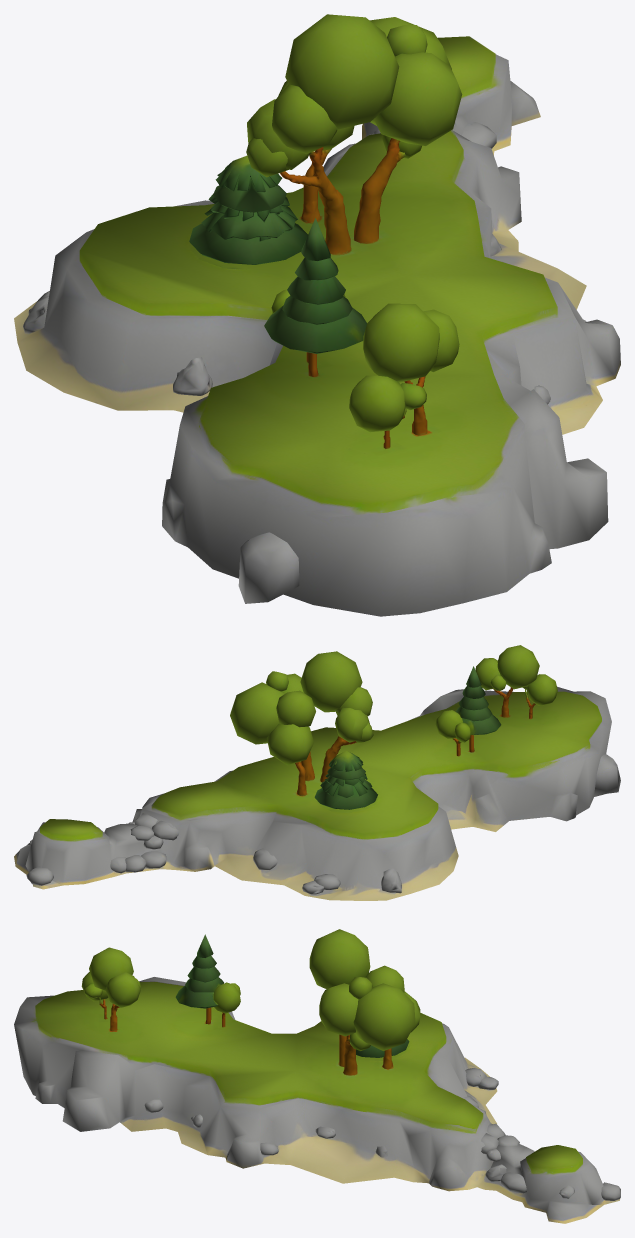
File: isle_14_p1.glb
3 renders of one model, top to bottom at view 1: azimuth 30°, elevation 25°; view 2: azimuth 150°, elevation 25°; view 3: azimuth 270°, elevation 25°, orthographic. The views are drawn at different scales.
Parts seen in each view (by area): view 1: tripo_node_332f7d4a-f276-4788-9e9a-ab2009891d3e; view 2: tripo_node_332f7d4a-f276-4788-9e9a-ab2009891d3e; view 3: tripo_node_332f7d4a-f276-4788-9e9a-ab2009891d3e.
Part boxes in pixels (x1,y1,x2,y2): tripo_node_332f7d4a-f276-4788-9e9a-ab2009891d3e: [14, 14, 620, 616]; tripo_node_332f7d4a-f276-4788-9e9a-ab2009891d3e: [14, 645, 620, 900]; tripo_node_332f7d4a-f276-4788-9e9a-ab2009891d3e: [14, 929, 620, 1223].
Size of the model in its own units: 0.7559 by 0.3496 by 0.998.
1 material, 1 textured.
